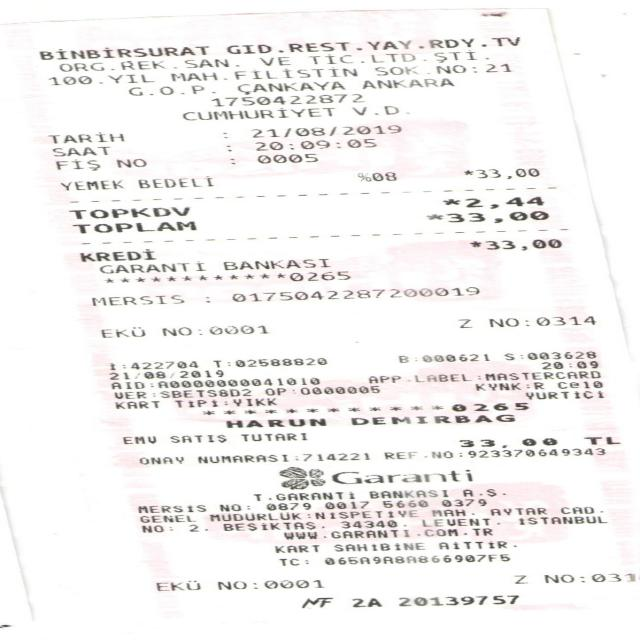text: (225, 36, 519, 54), (228, 286, 480, 302), (37, 44, 208, 60), (110, 377, 318, 390), (281, 528, 491, 540), (383, 448, 604, 459), (202, 405, 443, 415), (406, 370, 600, 382), (329, 468, 470, 484), (180, 106, 334, 120), (249, 124, 401, 138), (210, 93, 363, 106), (196, 452, 368, 463), (322, 554, 508, 564), (101, 273, 283, 283), (426, 210, 548, 224), (252, 138, 377, 151), (373, 63, 508, 75), (350, 414, 512, 424), (72, 220, 196, 233), (66, 206, 188, 219), (232, 67, 358, 79), (440, 196, 543, 210), (234, 81, 344, 94), (96, 261, 202, 274), (397, 595, 517, 606), (45, 74, 153, 86), (161, 324, 269, 336), (488, 316, 596, 328), (222, 258, 328, 269), (108, 370, 223, 380), (264, 385, 379, 395), (211, 357, 325, 367), (468, 238, 561, 250), (90, 294, 182, 306), (217, 579, 323, 589), (128, 84, 214, 96), (173, 398, 276, 408), (359, 78, 452, 89), (78, 249, 156, 262), (458, 438, 558, 448), (222, 521, 322, 531), (305, 510, 416, 519), (152, 388, 250, 398), (540, 573, 635, 583), (136, 176, 213, 188), (47, 131, 122, 143), (225, 418, 325, 427), (252, 492, 352, 501), (463, 168, 538, 179), (504, 351, 595, 360), (209, 512, 300, 521), (107, 360, 197, 369), (398, 353, 488, 362), (333, 542, 423, 551), (366, 489, 446, 498), (516, 516, 606, 524), (255, 153, 319, 164), (58, 179, 122, 190), (286, 271, 350, 282), (448, 402, 526, 411), (525, 390, 602, 399), (438, 540, 514, 549), (421, 518, 498, 526), (135, 504, 203, 513), (50, 146, 109, 156), (240, 432, 304, 441), (431, 50, 478, 62), (473, 382, 542, 390), (55, 61, 103, 72), (118, 60, 166, 71), (98, 327, 146, 338), (306, 54, 353, 65), (54, 158, 97, 170), (540, 360, 597, 369), (168, 434, 225, 443), (340, 520, 404, 528), (154, 580, 198, 591), (183, 58, 231, 68), (488, 508, 544, 516), (367, 53, 416, 62), (169, 72, 224, 80), (351, 106, 406, 114), (139, 514, 194, 522), (355, 172, 394, 182), (462, 488, 505, 497), (272, 544, 318, 552), (300, 597, 333, 608), (264, 502, 309, 510), (441, 498, 486, 506), (138, 456, 182, 464), (382, 500, 425, 508), (112, 401, 160, 408), (559, 506, 600, 514), (583, 436, 619, 445), (556, 381, 600, 388), (324, 501, 367, 508), (258, 56, 288, 66), (114, 158, 144, 168), (348, 598, 381, 607), (430, 509, 471, 516), (120, 436, 155, 444), (365, 374, 399, 382), (141, 524, 171, 532), (112, 391, 146, 398), (219, 504, 248, 511), (277, 558, 306, 565), (455, 318, 474, 328), (510, 575, 530, 584), (188, 524, 206, 531), (222, 144, 235, 152), (219, 131, 230, 139), (203, 295, 210, 302), (228, 158, 235, 165)
